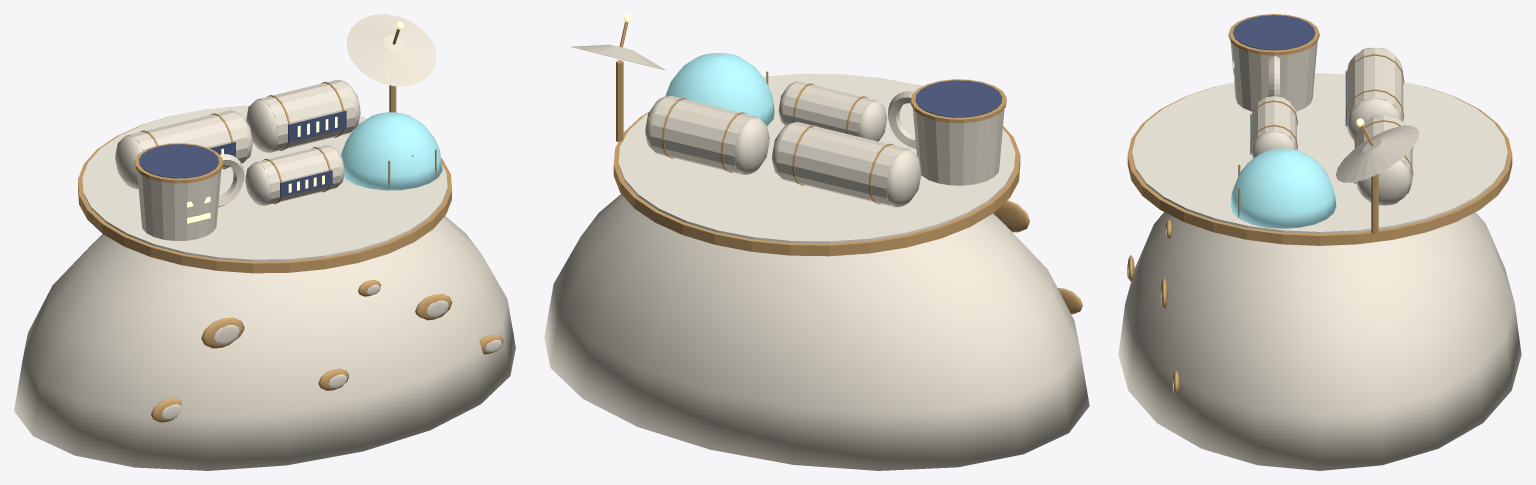
The model's file is orb4_moon_base_landmark.glb.
The picture shows the model from 3 angles, left to right: view 1: azimuth 30°, elevation 25°; view 2: azimuth 150°, elevation 25°; view 3: azimuth 270°, elevation 25°; orthographic projection. The views are drawn at different scales.
Parts seen in each view (by area): view 1: orb4_moon_base_landmark__orb3-ivory-ceramic, orb4_moon_base_landmark__orb3-foam-cream, orb4_moon_base_landmark__orb3-brushed-brass, orb4_moon_base_landmark__orb4-celadon-glass, orb4_moon_base_landmark__orb3-indigo-glaze, orb4_moon_base_landmark__orb4-warm-lamp; view 2: orb4_moon_base_landmark__orb3-ivory-ceramic, orb4_moon_base_landmark__orb3-foam-cream, orb4_moon_base_landmark__orb3-brushed-brass, orb4_moon_base_landmark__orb4-celadon-glass, orb4_moon_base_landmark__orb3-indigo-glaze; view 3: orb4_moon_base_landmark__orb3-ivory-ceramic, orb4_moon_base_landmark__orb3-foam-cream, orb4_moon_base_landmark__orb3-brushed-brass, orb4_moon_base_landmark__orb4-celadon-glass, orb4_moon_base_landmark__orb3-indigo-glaze.
Part boxes in pixels (x1,y1,x2,y2): orb4_moon_base_landmark__orb3-ivory-ceramic: (14, 14, 515, 470); orb4_moon_base_landmark__orb3-foam-cream: (82, 105, 447, 261); orb4_moon_base_landmark__orb3-brushed-brass: (78, 28, 503, 422); orb4_moon_base_landmark__orb4-celadon-glass: (341, 112, 442, 190); orb4_moon_base_landmark__orb3-indigo-glaze: (139, 110, 346, 197); orb4_moon_base_landmark__orb4-warm-lamp: (187, 21, 403, 223); orb4_moon_base_landmark__orb3-ivory-ceramic: (544, 44, 1089, 470); orb4_moon_base_landmark__orb3-foam-cream: (618, 73, 1015, 243); orb4_moon_base_landmark__orb3-brushed-brass: (613, 22, 1082, 314); orb4_moon_base_landmark__orb4-celadon-glass: (665, 53, 774, 125); orb4_moon_base_landmark__orb3-indigo-glaze: (915, 80, 1002, 117); orb4_moon_base_landmark__orb3-ivory-ceramic: (1118, 42, 1521, 470); orb4_moon_base_landmark__orb3-foam-cream: (1132, 73, 1507, 233); orb4_moon_base_landmark__orb3-brushed-brass: (1127, 14, 1512, 394); orb4_moon_base_landmark__orb4-celadon-glass: (1230, 148, 1336, 228); orb4_moon_base_landmark__orb3-indigo-glaze: (1233, 15, 1355, 183).
Size of the model in its own units: 60 by 37.75 by 44.
